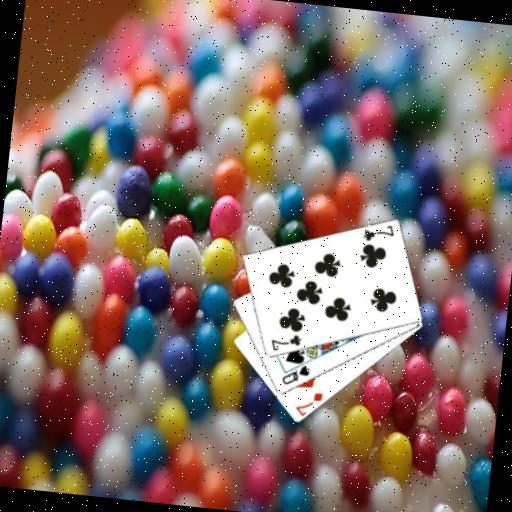7C: (359, 219, 397, 246), (267, 329, 303, 355)
7D: (292, 387, 325, 419)
QS: (278, 360, 312, 389)
